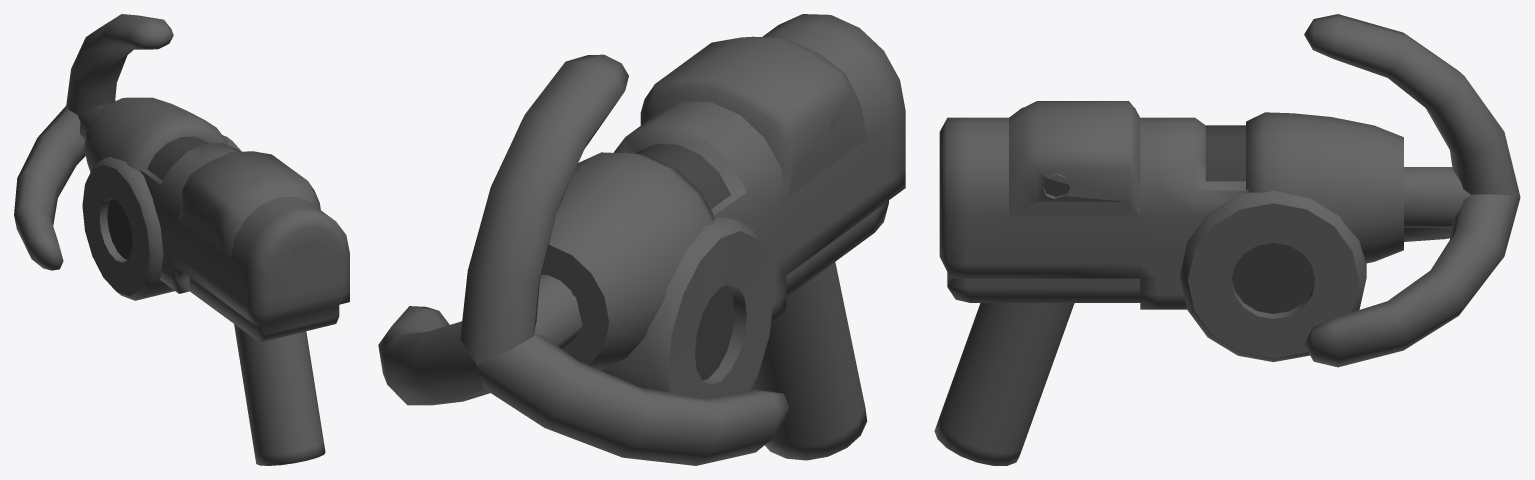
File: CUT_GRAPPLEGUN_NXG.fbx
3 renders of one model, left to right at view 1: azimuth 30°, elevation 25°; view 2: azimuth 150°, elevation 25°; view 3: azimuth 270°, elevation 25°, orthographic. The views are drawn at different scales.
Visible parts, largest first — view 1: CUT_GRAPPLEGUN_NXG0000, CUT_GRAPPLEBOLT_NXG0000; view 2: CUT_GRAPPLEGUN_NXG0000, CUT_GRAPPLEBOLT_NXG0000; view 3: CUT_GRAPPLEGUN_NXG0000, CUT_GRAPPLEBOLT_NXG0000.
Boxes of the visible parts, x1,y1,x2,y2 form: CUT_GRAPPLEGUN_NXG0000: (82,97,349,465); CUT_GRAPPLEBOLT_NXG0000: (14,14,173,270); CUT_GRAPPLEGUN_NXG0000: (541,14,905,460); CUT_GRAPPLEBOLT_NXG0000: (378,54,788,465); CUT_GRAPPLEGUN_NXG0000: (934,101,1403,465); CUT_GRAPPLEBOLT_NXG0000: (1304,14,1520,367).
Bounding box in the file's own units: 12.08 × 16.46 × 19.95.
2 materials, 2 textured.
